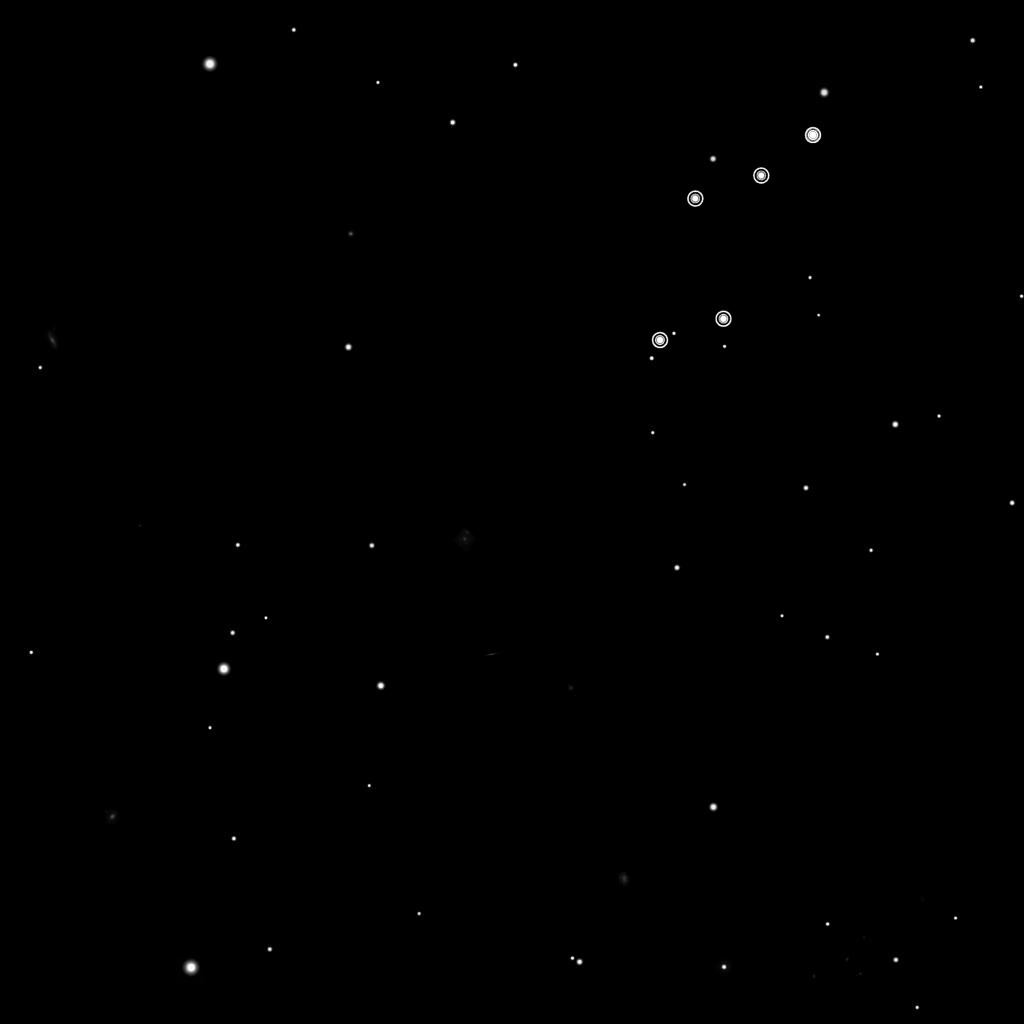lyra: (640, 114, 834, 360)
